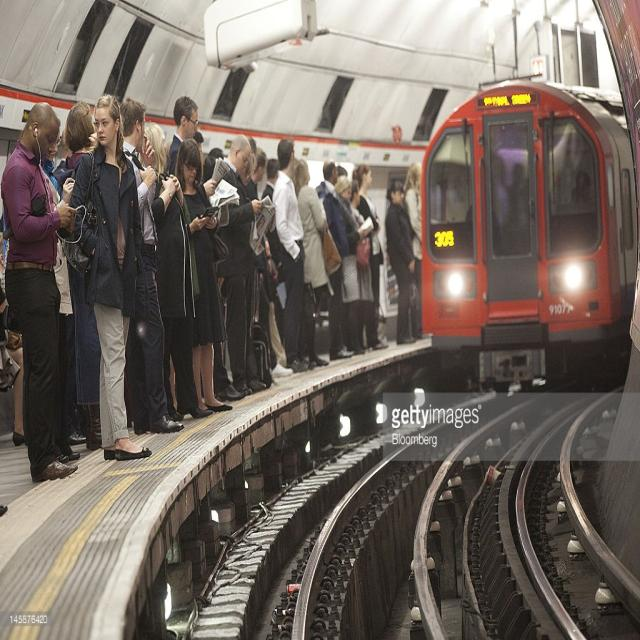body: (0, 99, 88, 484), (66, 92, 154, 462), (14, 106, 86, 466), (168, 92, 245, 402), (116, 97, 186, 436), (141, 122, 203, 429), (167, 133, 234, 414), (210, 132, 276, 398), (50, 98, 96, 446), (272, 137, 319, 375), (292, 157, 342, 369), (238, 134, 274, 392), (349, 161, 388, 352), (237, 149, 267, 393), (333, 174, 373, 356), (0, 202, 28, 451), (382, 178, 418, 346), (547, 140, 595, 252), (349, 179, 378, 352), (497, 150, 532, 259), (402, 160, 422, 296), (197, 126, 222, 185), (243, 148, 268, 204), (314, 158, 339, 208), (260, 156, 280, 205), (0, 494, 11, 521), (336, 165, 348, 178)
